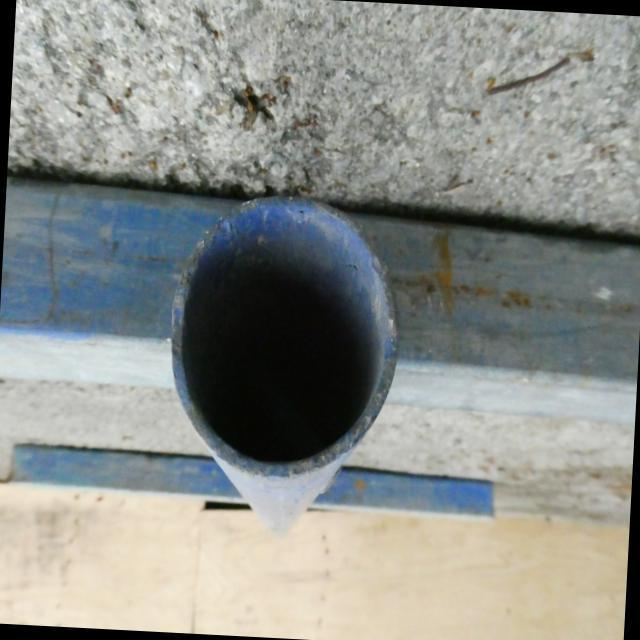pipe: (170, 205, 396, 472)
